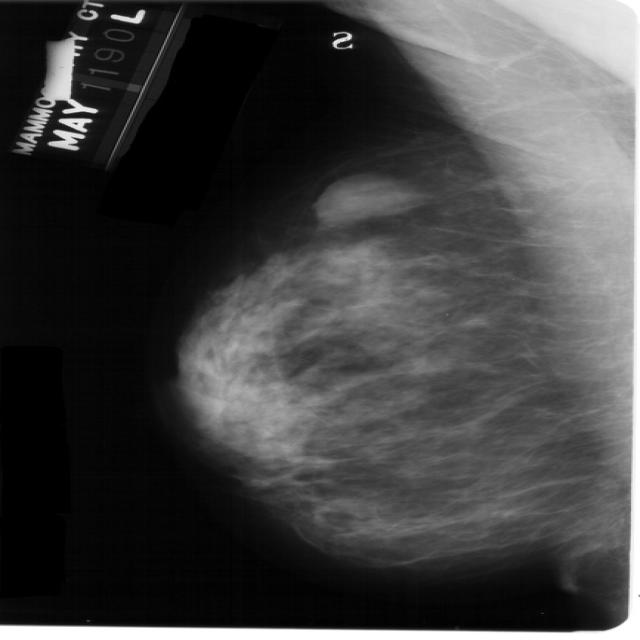tumour: (312, 172, 417, 224)
